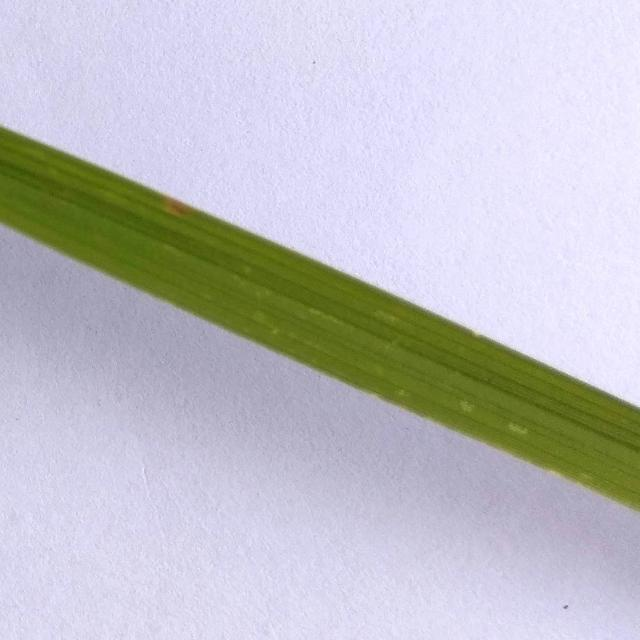brownspots: (161, 194, 195, 222)
